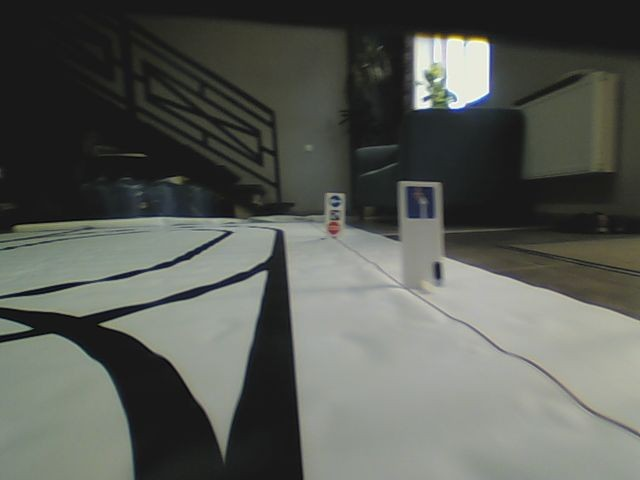priority_movement: (403, 184, 437, 222)
